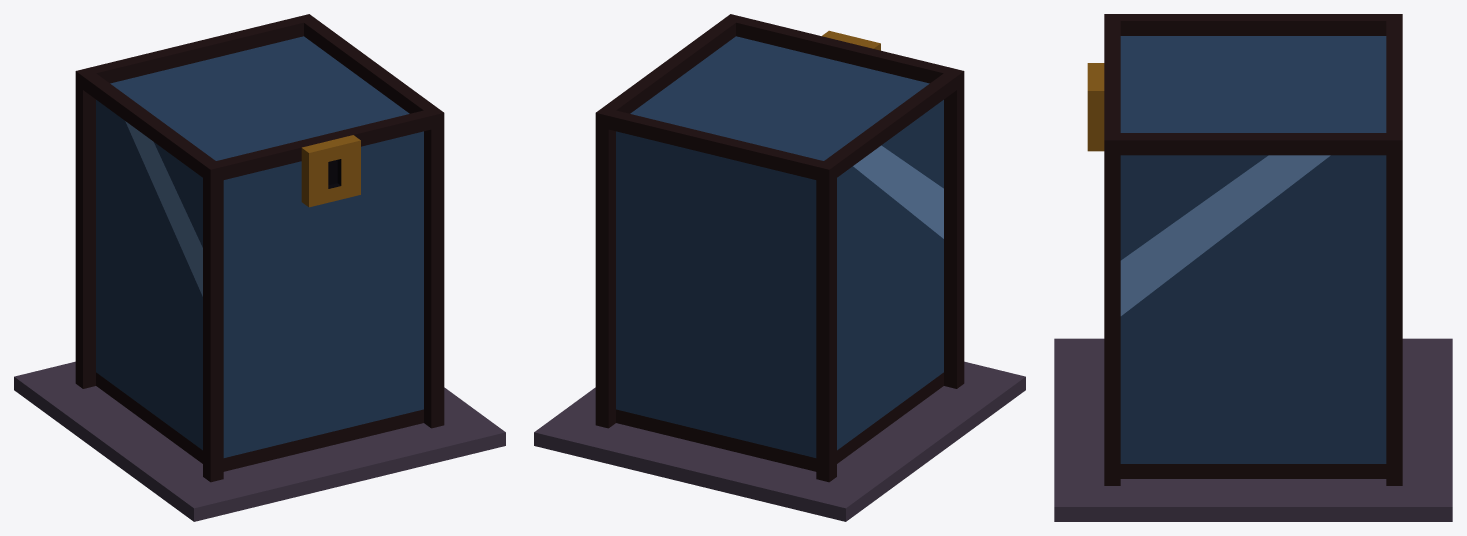
The model's file is displayCase_icon.dae.
The picture shows the model from 3 angles, left to right: view 1: azimuth 30°, elevation 25°; view 2: azimuth 150°, elevation 25°; view 3: azimuth 270°, elevation 25°; orthographic projection. The views are drawn at different scales.
Visible parts, largest first — view 1: frame_MSH; view 2: frame_MSH; view 3: frame_MSH.
Boxes of the visible parts, <box> form: frame_MSH: <box>14,14,505,521</box>; frame_MSH: <box>534,14,1025,521</box>; frame_MSH: <box>1054,14,1452,521</box>.
Size of the model in its own units: 1 by 1 by 1.
